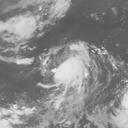cyclone: (43, 40, 114, 102)
